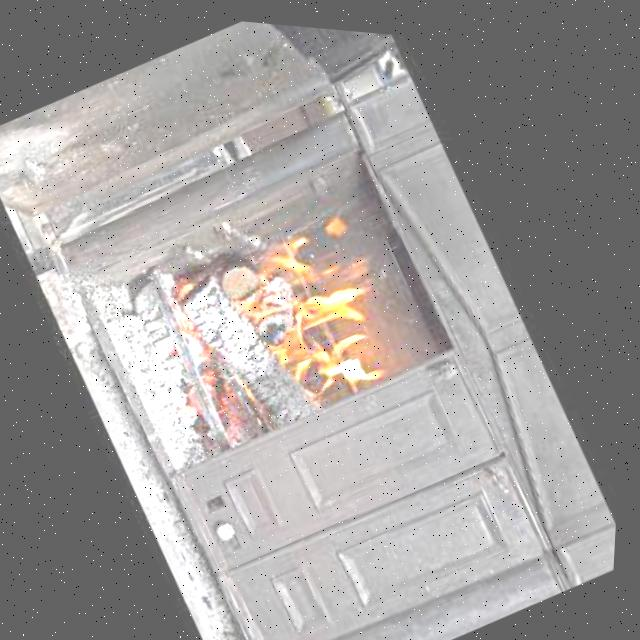Fire: (213, 183, 428, 416)
